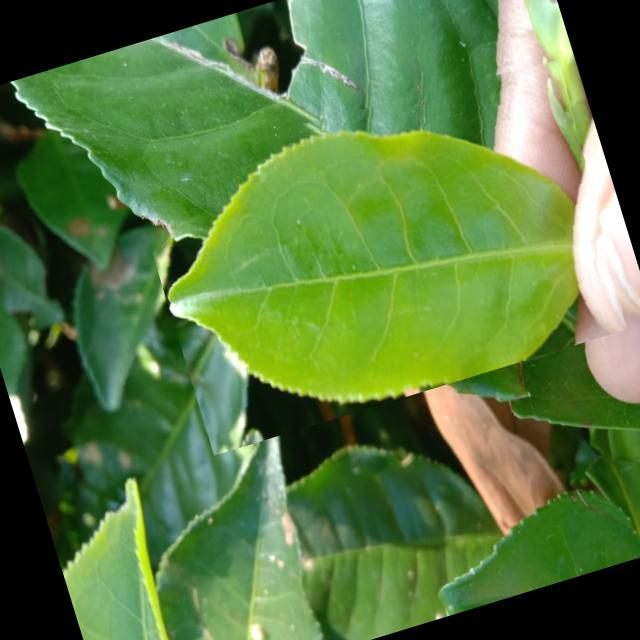Category B(2-4 days): (126, 35, 640, 453)
